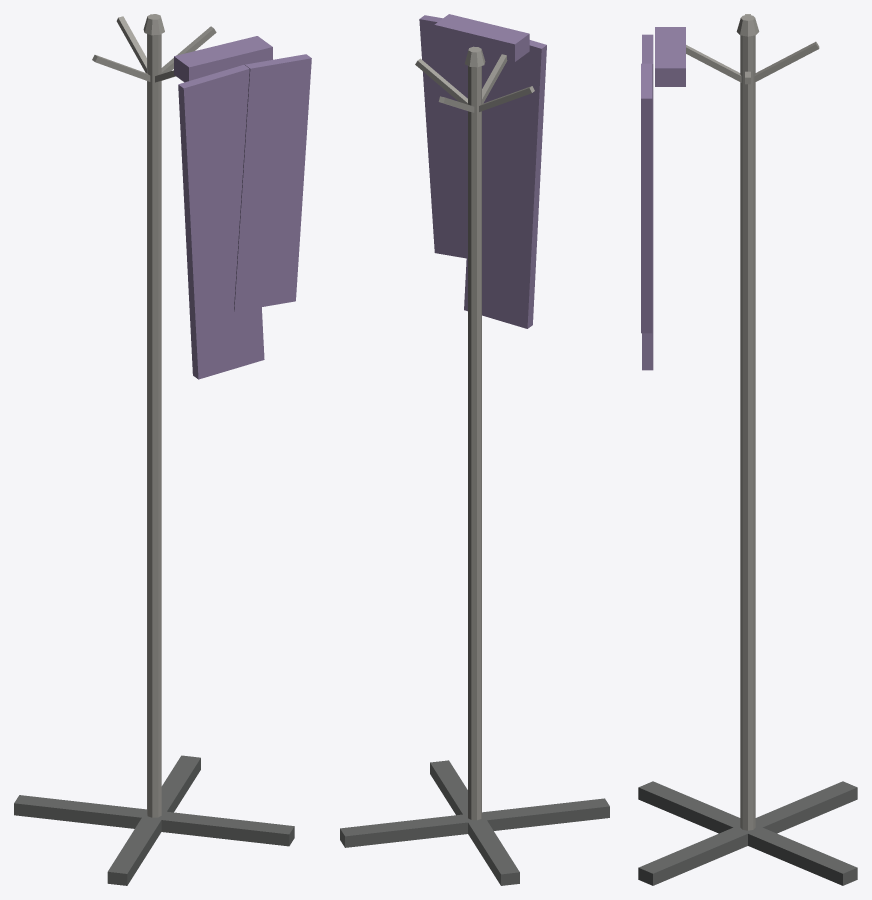
The model's file is coat-stand.glb.
3 renders of one model, left to right at view 1: azimuth 30°, elevation 25°; view 2: azimuth 150°, elevation 25°; view 3: azimuth 270°, elevation 25°, orthographic. The views are drawn at different scales.
Parts seen in each view (by area): view 1: accent-lilac, brushed, metal; view 2: accent-lilac, brushed, metal; view 3: brushed, metal, accent-lilac.
Part boxes in pixels (x1=…): accent-lilac: x1=174, y1=36, x2=311, y2=379; brushed: x1=92, y1=14, x2=216, y2=817; metal: x1=14, y1=755, x2=294, y2=885; accent-lilac: x1=419, y1=14, x2=546, y2=328; brushed: x1=415, y1=46, x2=534, y2=820; metal: x1=340, y1=760, x2=609, y2=885; brushed: x1=686, y1=14, x2=819, y2=830; metal: x1=638, y1=781, x2=857, y2=885; accent-lilac: x1=641, y1=27, x2=685, y2=370.
Bounding box in the file's own units: 0.4501 × 1.76 × 0.4243.
